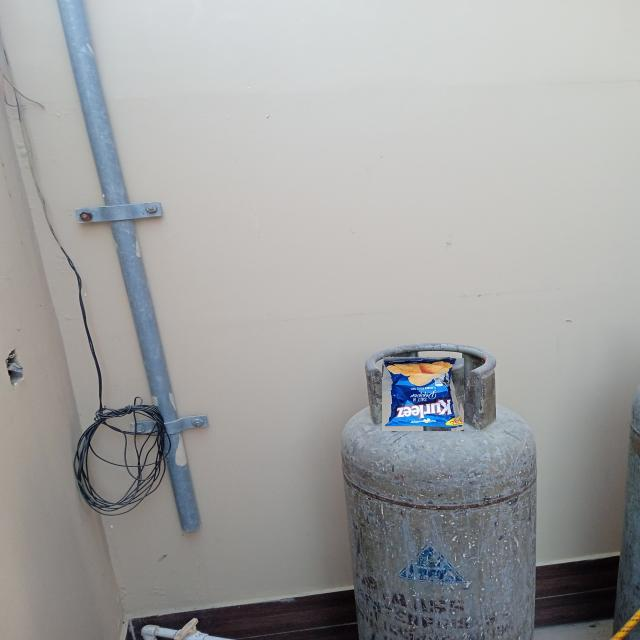Plastic: (382, 356, 464, 431)
